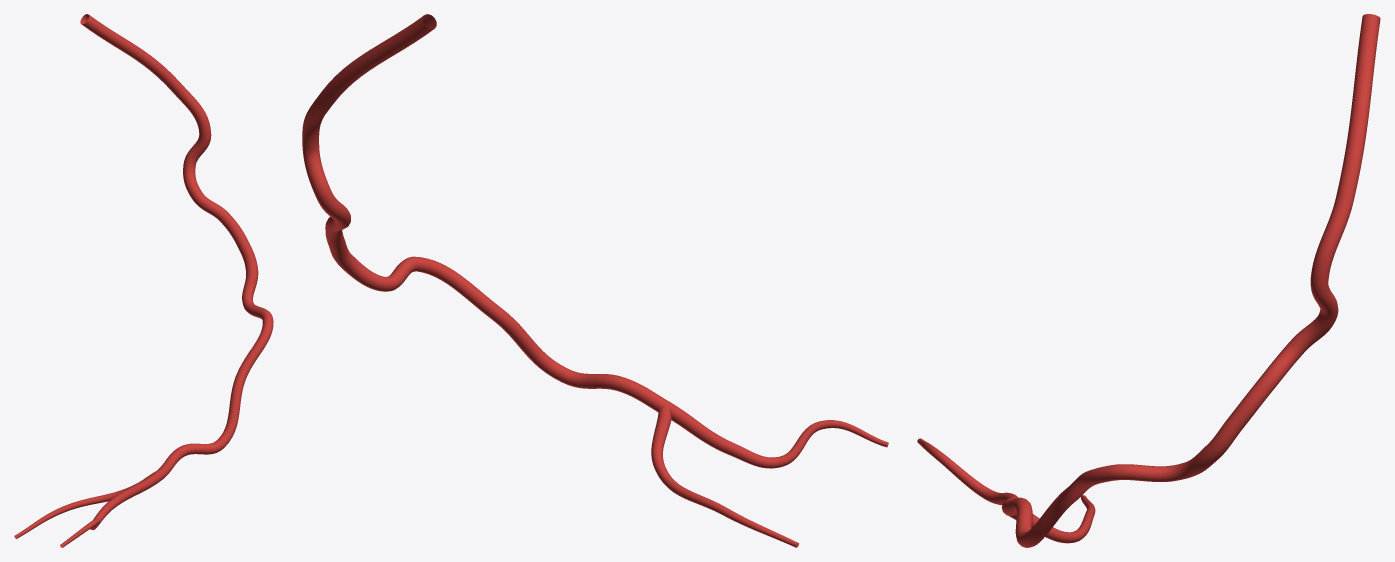
3 renders of one model, left to right at view 1: azimuth 30°, elevation 25°; view 2: azimuth 150°, elevation 25°; view 3: azimuth 270°, elevation 25°, orthographic. The views are drawn at different scales.
Parts seen in each view (by area): view 1: 左侧外侧额底动脉; view 2: 左侧外侧额底动脉; view 3: 左侧外侧额底动脉.
Boxes of the visible parts, left/top/right/bottom form: 左侧外侧额底动脉: left=14, top=14, right=273, bottom=547; 左侧外侧额底动脉: left=302, top=14, right=888, bottom=547; 左侧外侧额底动脉: left=917, top=14, right=1380, bottom=547.
Size of the model in its own units: 0.0655 by 0.087 by 0.06.
